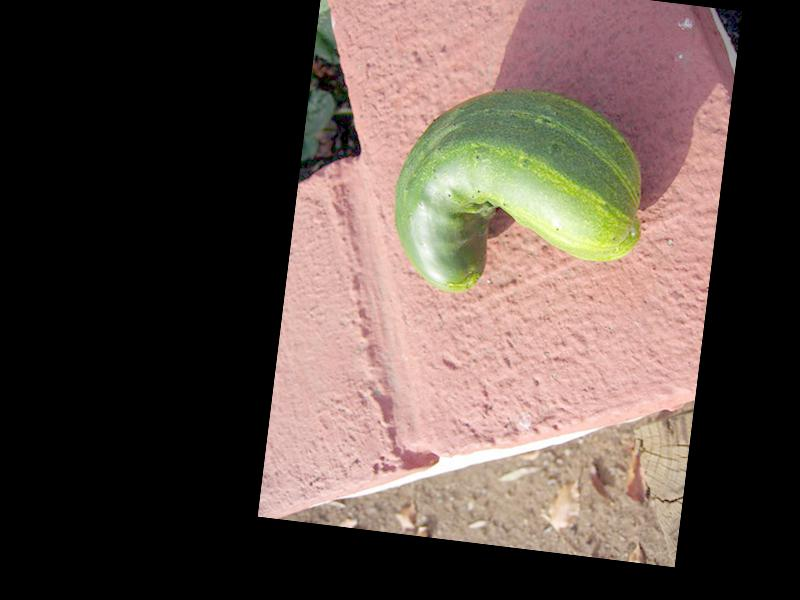Cucumber: (384, 76, 654, 316)
